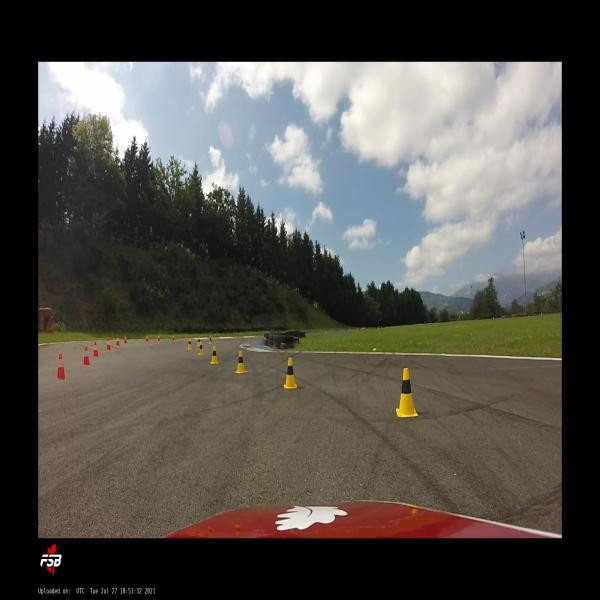orange_cone: (56, 353, 67, 379), (82, 345, 90, 365), (93, 341, 99, 357), (106, 338, 112, 351), (116, 336, 120, 346), (124, 334, 127, 344), (172, 334, 175, 341), (146, 334, 148, 343), (158, 334, 160, 341)
yellow_cone: (396, 368, 418, 417), (284, 358, 298, 390), (234, 351, 247, 374), (210, 346, 219, 364), (198, 341, 205, 356), (187, 338, 193, 351), (197, 336, 201, 347), (208, 335, 212, 345)
